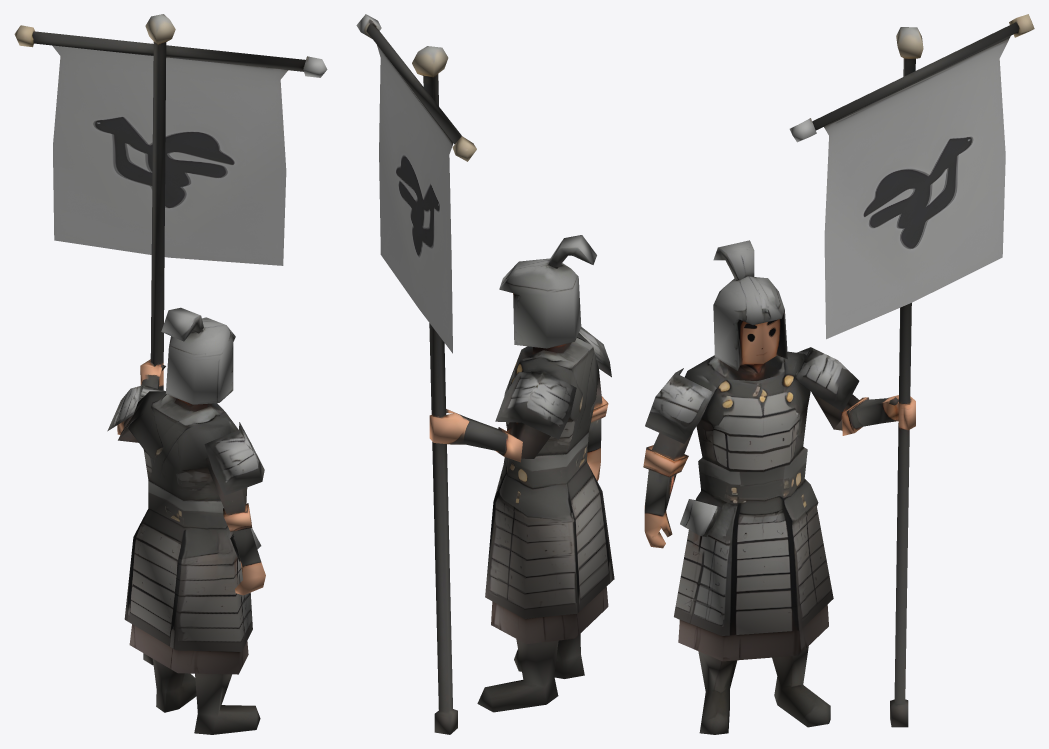
The model's file is soldier_white.glb.
3 views of the same model, side by side, from view 1: azimuth 30°, elevation 25°; view 2: azimuth 150°, elevation 25°; view 3: azimuth 270°, elevation 25° (orthographic). The views are drawn at different scales.
Parts seen in each view (by area): view 1: tripo_node_7b76d73e-b7cd-4333-93b4-74875885a54a; view 2: tripo_node_7b76d73e-b7cd-4333-93b4-74875885a54a; view 3: tripo_node_7b76d73e-b7cd-4333-93b4-74875885a54a.
Part boxes in pixels (bbox=[...]): tripo_node_7b76d73e-b7cd-4333-93b4-74875885a54a: bbox=[14, 14, 327, 734]; tripo_node_7b76d73e-b7cd-4333-93b4-74875885a54a: bbox=[356, 14, 614, 734]; tripo_node_7b76d73e-b7cd-4333-93b4-74875885a54a: bbox=[643, 14, 1034, 734].
Size of the model in its own units: 0.3418 by 0.998 by 0.502.
Materials: 1 (1 with a texture image).
